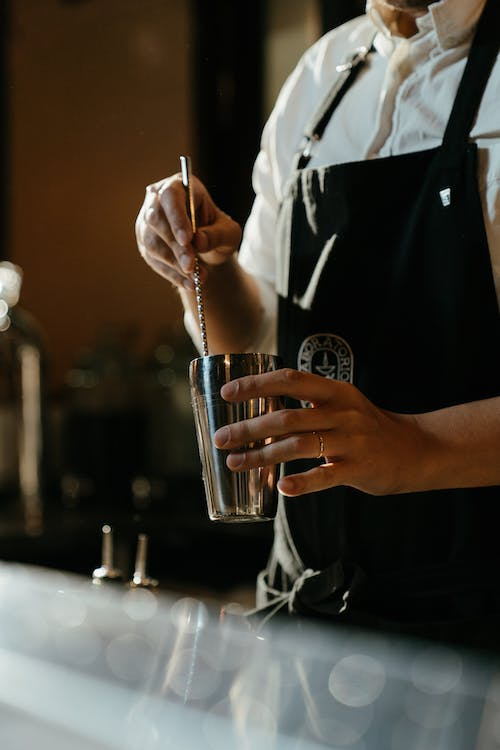alcohol: (186, 350, 289, 525)
